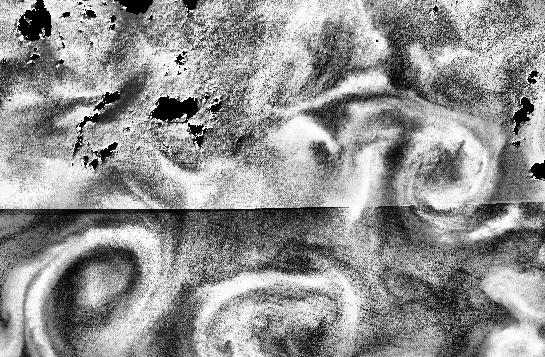AE: (33, 223, 153, 347), (391, 118, 491, 209)
